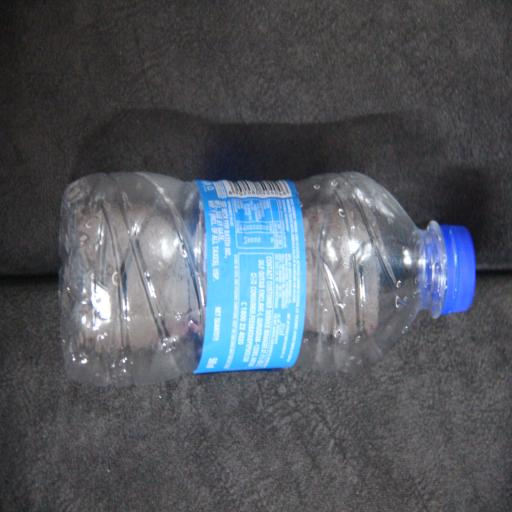Aquafina: (96, 31, 276, 512)
